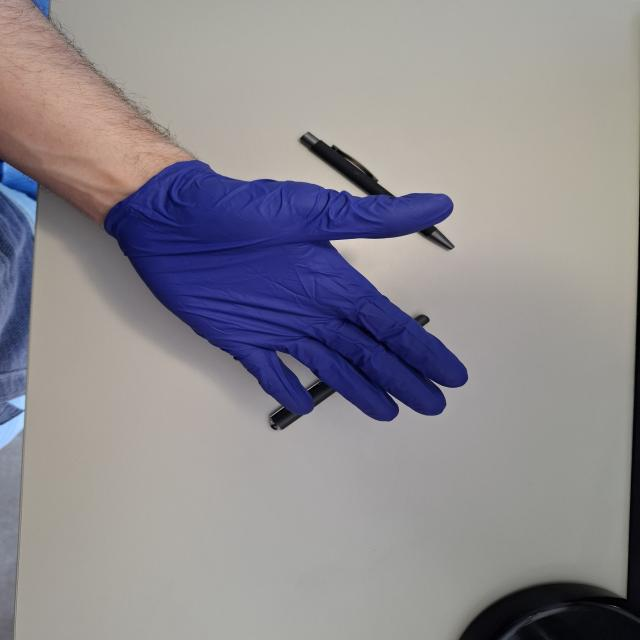glove_on: (103, 157, 473, 424)
